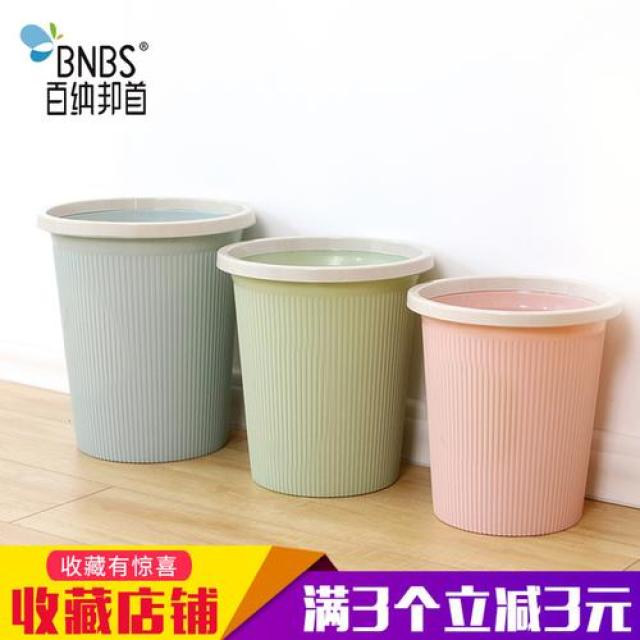dustbin: (32, 189, 258, 467)
